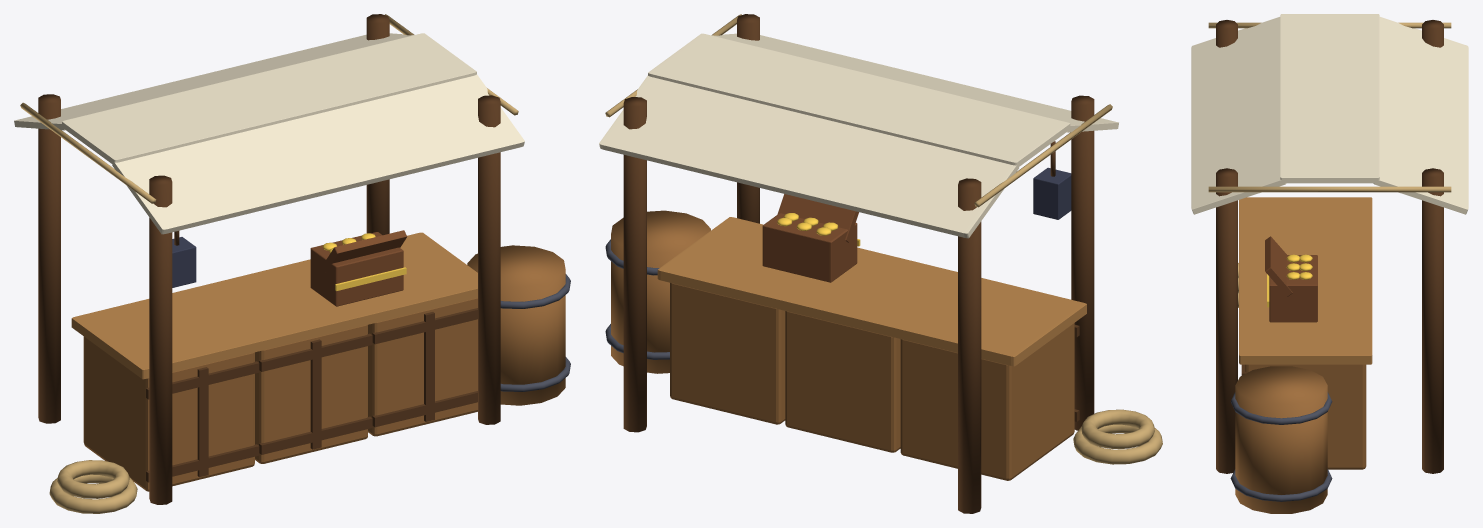
File: stanek-pirate.glb
3 views of the same model, side by side, from view 1: azimuth 30°, elevation 25°; view 2: azimuth 150°, elevation 25°; view 3: azimuth 270°, elevation 25° (orthographic). The views are drawn at different scales.
Parts seen in each view (by area): view 1: stanek-pirate; view 2: stanek-pirate; view 3: stanek-pirate.
Part boxes in pixels (x1,y1,x2,y2): stanek-pirate: (14, 14, 570, 513); stanek-pirate: (599, 14, 1162, 513); stanek-pirate: (1191, 14, 1468, 513).
Size of the model in its own units: 4.61 by 2.72 by 2.29.
Materials: 2 (2 with a texture image).
